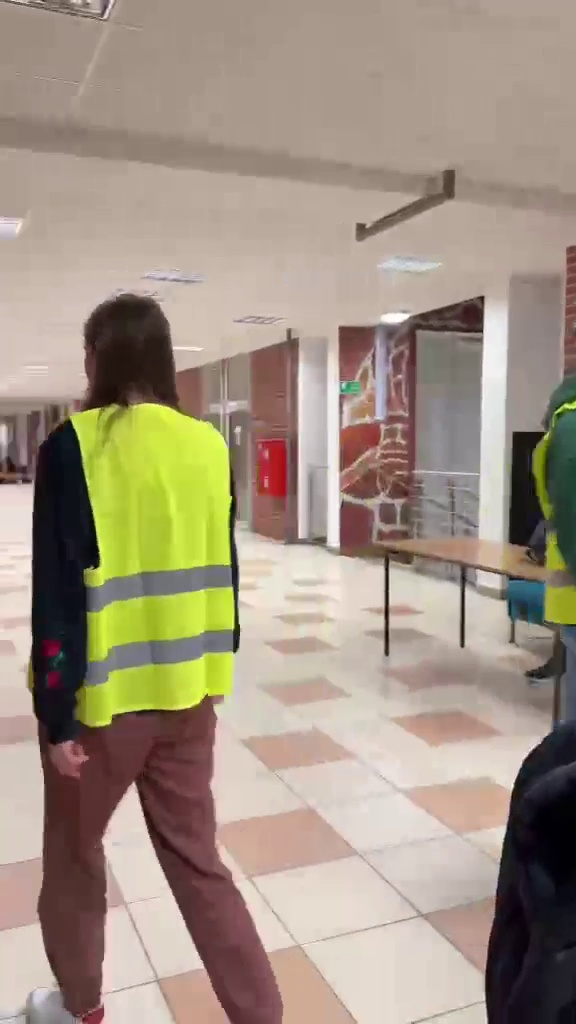vest: (29, 285, 288, 1000)
